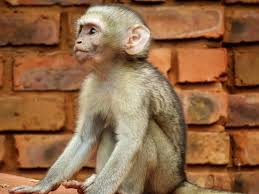monkey: (45, 5, 189, 180)
